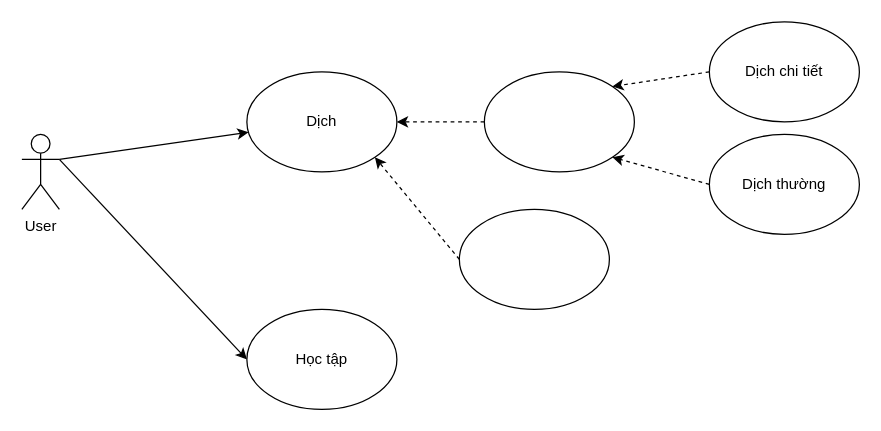
Some shapes in this 881 by 431 pixel diagram are drawn without their labels. The shapes that lost their labels are listed below. From the top down, each one's box as (x1, y1, x2, y2) in pixels, then its label:
(483, 71, 634, 172): Dịch bằng Web
(458, 208, 609, 309): Dịch bằng Extension
